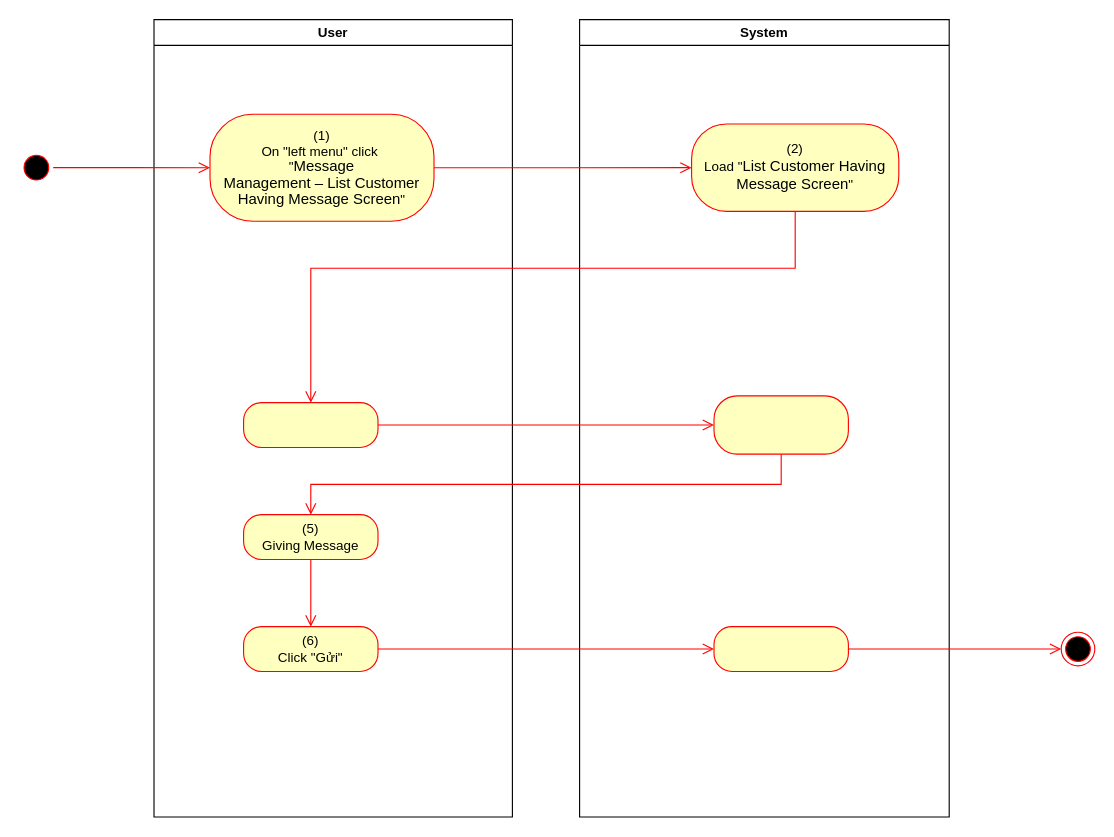
This 1114x837 diagram has some shape labels left out. Each missing label, with the centre of its shape:
(3) Chose customer: pixel 310 424
(4) Load " Message Screen ": pixel 780 424
(7) Update UI and DB: pixel 780 648
